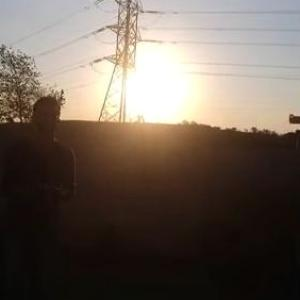follow: (0, 91, 80, 299)
